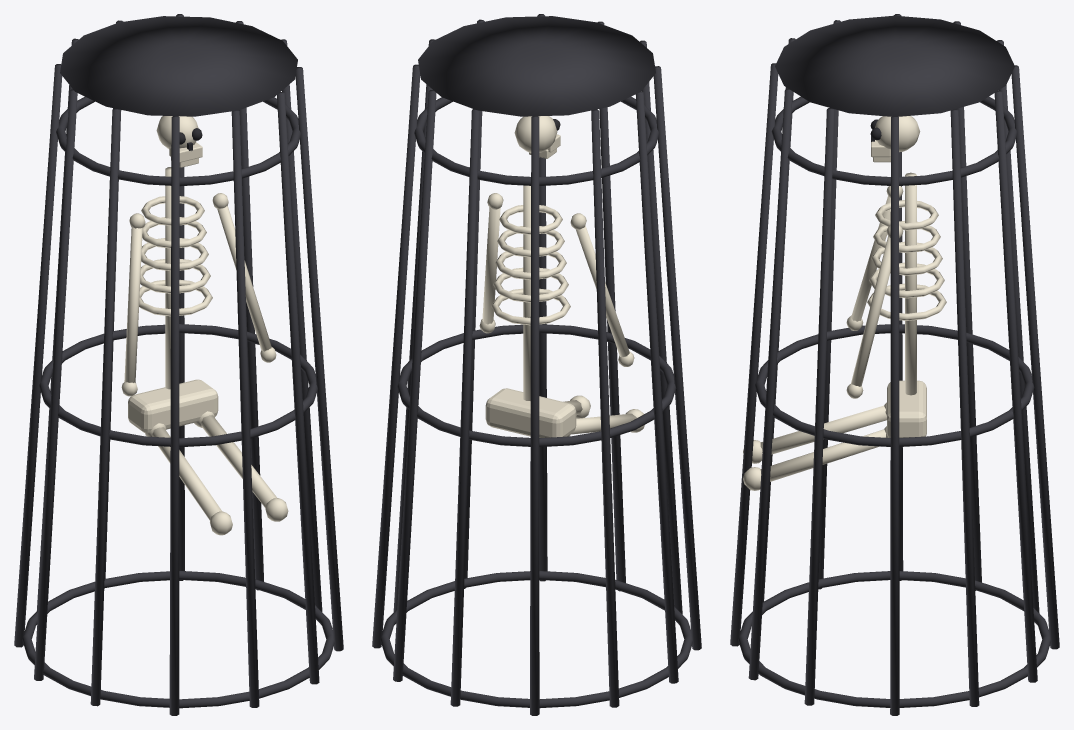
Rendered from hanging_remains_skeleton_cage.glb.
The picture shows the model from 3 angles, left to right: view 1: azimuth 30°, elevation 25°; view 2: azimuth 150°, elevation 25°; view 3: azimuth 270°, elevation 25°; orthographic projection.
Visible parts, largest first — view 1: GD_hanging_remains_skeleton_cage__m0, GD_hanging_remains_skeleton_cage__m1; view 2: GD_hanging_remains_skeleton_cage__m0, GD_hanging_remains_skeleton_cage__m1; view 3: GD_hanging_remains_skeleton_cage__m0, GD_hanging_remains_skeleton_cage__m1.
Boxes of the visible parts, x1,y1,x2,y2 form: GD_hanging_remains_skeleton_cage__m0: (14,14,343,715); GD_hanging_remains_skeleton_cage__m1: (121,116,288,535); GD_hanging_remains_skeleton_cage__m0: (372,14,701,715); GD_hanging_remains_skeleton_cage__m1: (479,116,644,437); GD_hanging_remains_skeleton_cage__m0: (730,14,1059,715); GD_hanging_remains_skeleton_cage__m1: (743,116,946,490).
Bounding box in the file's own units: 0.8207 × 1.64 × 0.8237.
